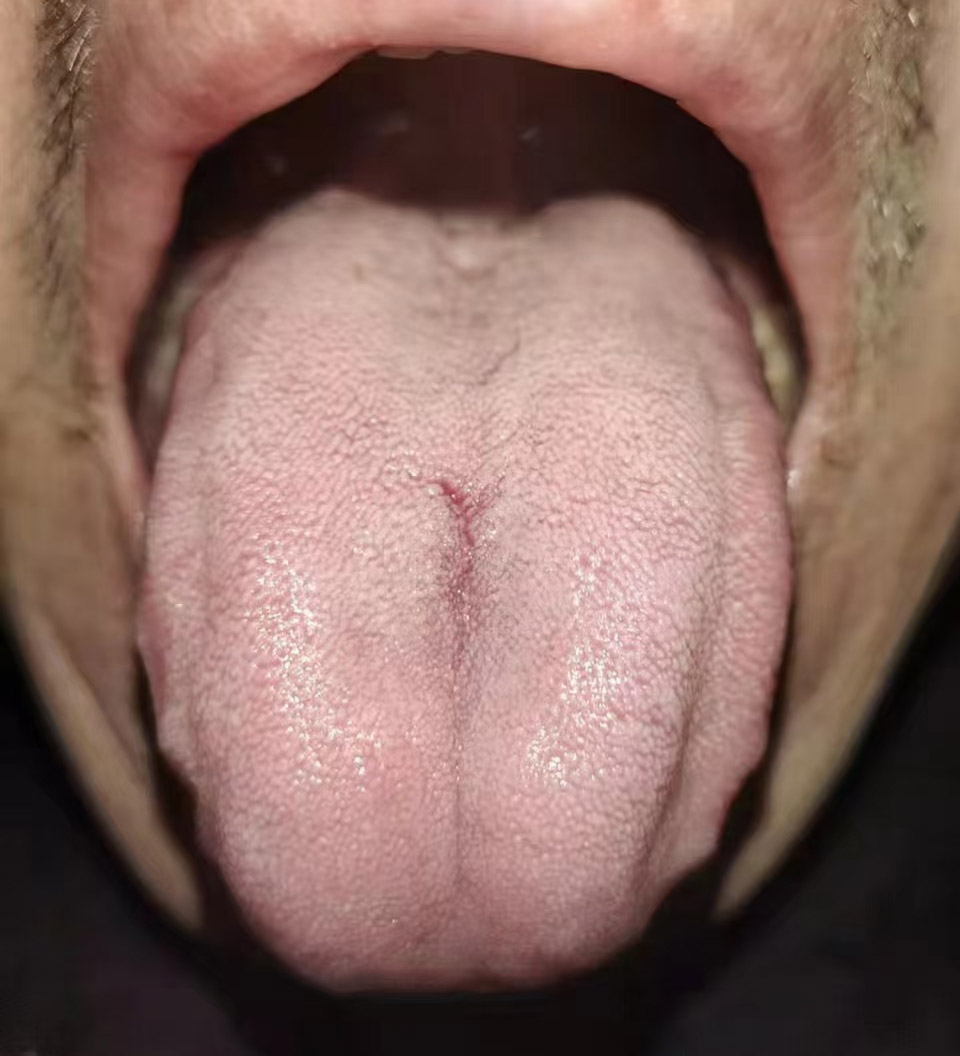baitaishe: (137, 187, 794, 991)
gandanao: (636, 355, 795, 876), (137, 349, 252, 872)
